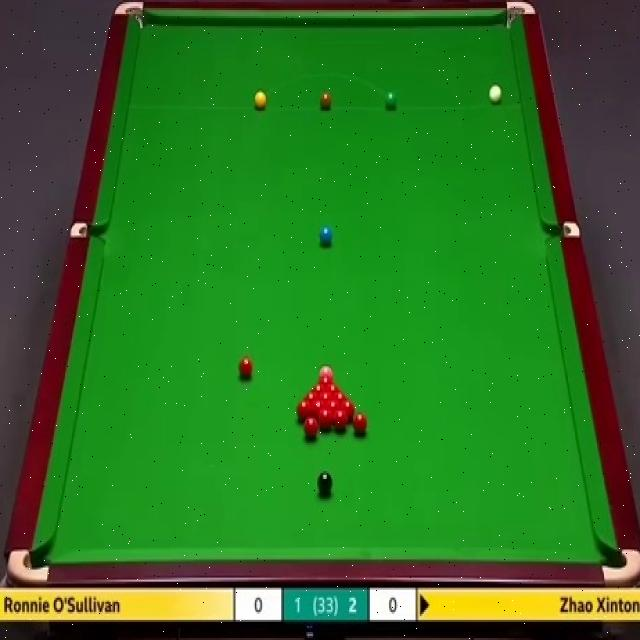black-ball: (317, 470, 333, 496)
blue-ball: (319, 225, 332, 244)
brown-ball: (319, 93, 332, 109)
green-ball: (384, 89, 398, 112)
pink-ball: (318, 365, 334, 382)
red-ball: (297, 398, 313, 423), (352, 412, 368, 436), (334, 407, 348, 434), (324, 400, 342, 419), (303, 415, 319, 436), (240, 355, 253, 380), (319, 407, 333, 429), (340, 399, 356, 418), (332, 390, 348, 404), (319, 390, 333, 405), (313, 402, 324, 421), (304, 390, 320, 403), (312, 382, 327, 395), (326, 380, 338, 396)
white-ball: (489, 84, 503, 106)
yellow-ball: (253, 90, 267, 110)
